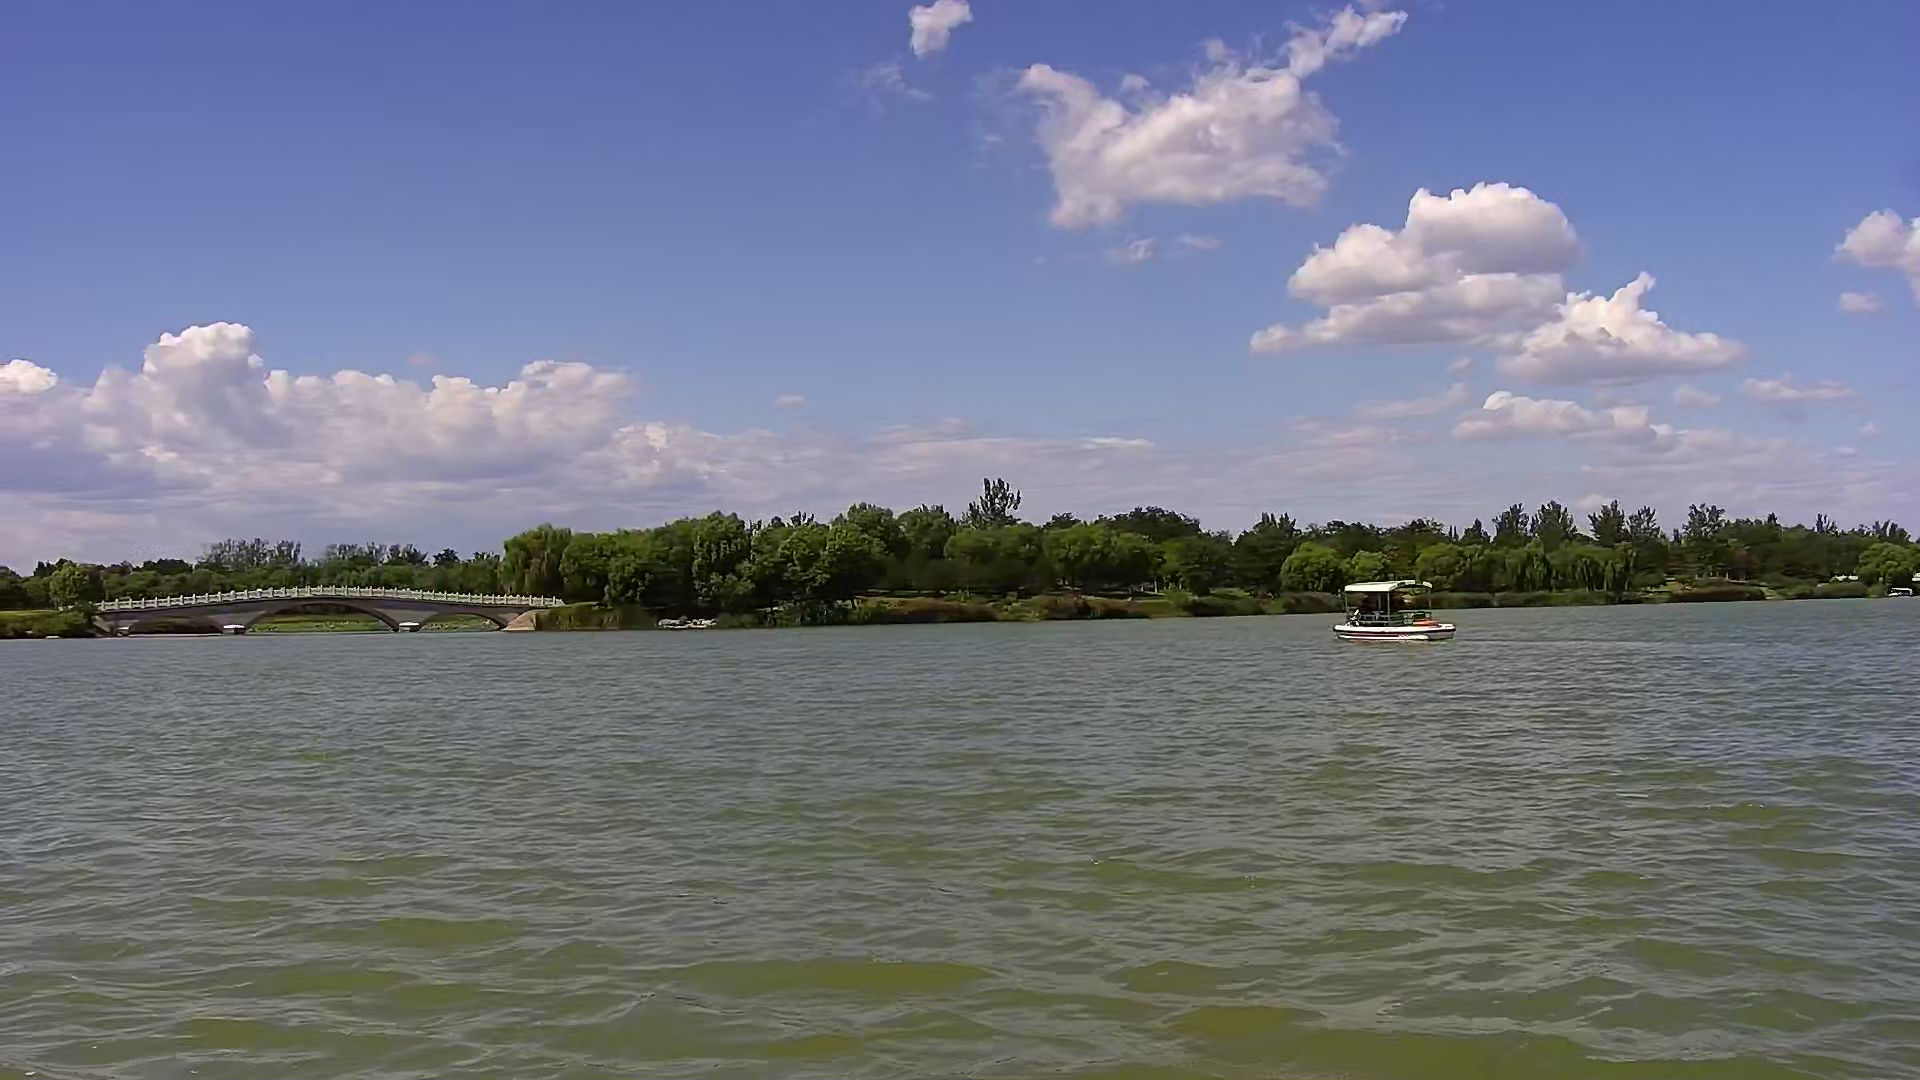boat: (1328, 578, 1461, 645)
bridge: (95, 584, 559, 640)
